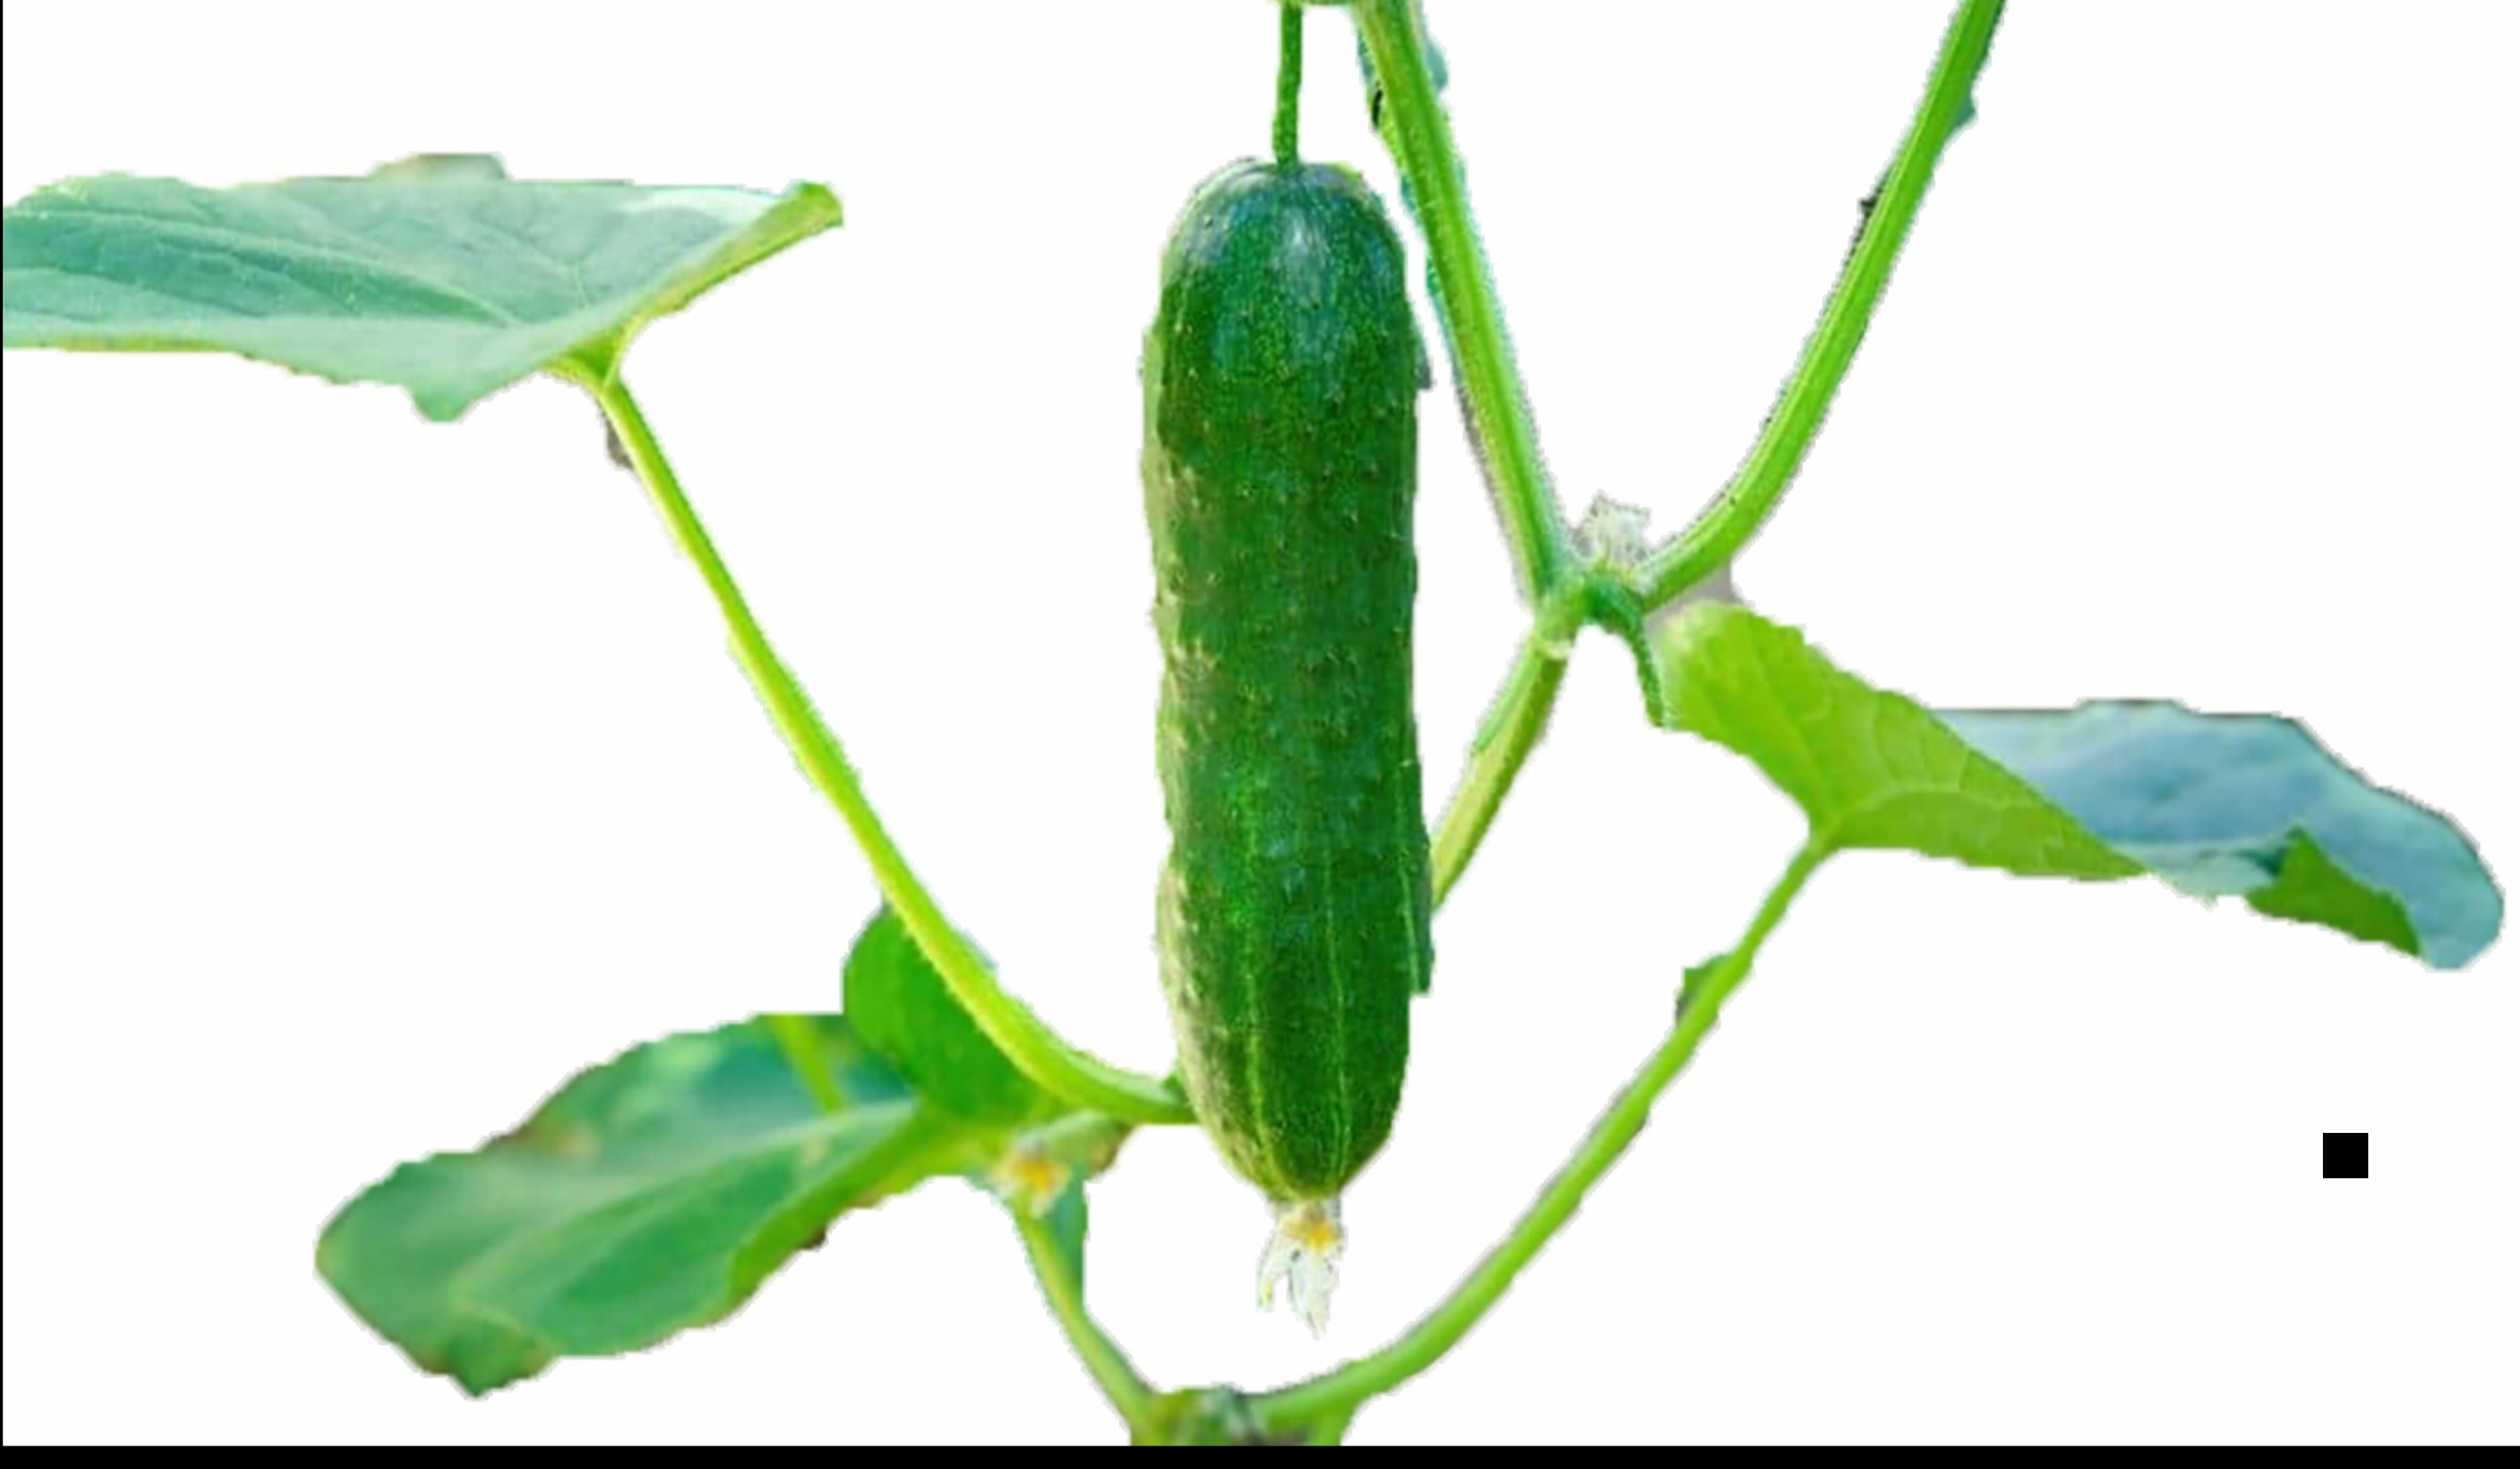corn_plant: (21, 150, 1130, 1429)
cucumber: (1126, 86, 1444, 1233)
cucumber_plant: (1469, 612, 2511, 1373)
